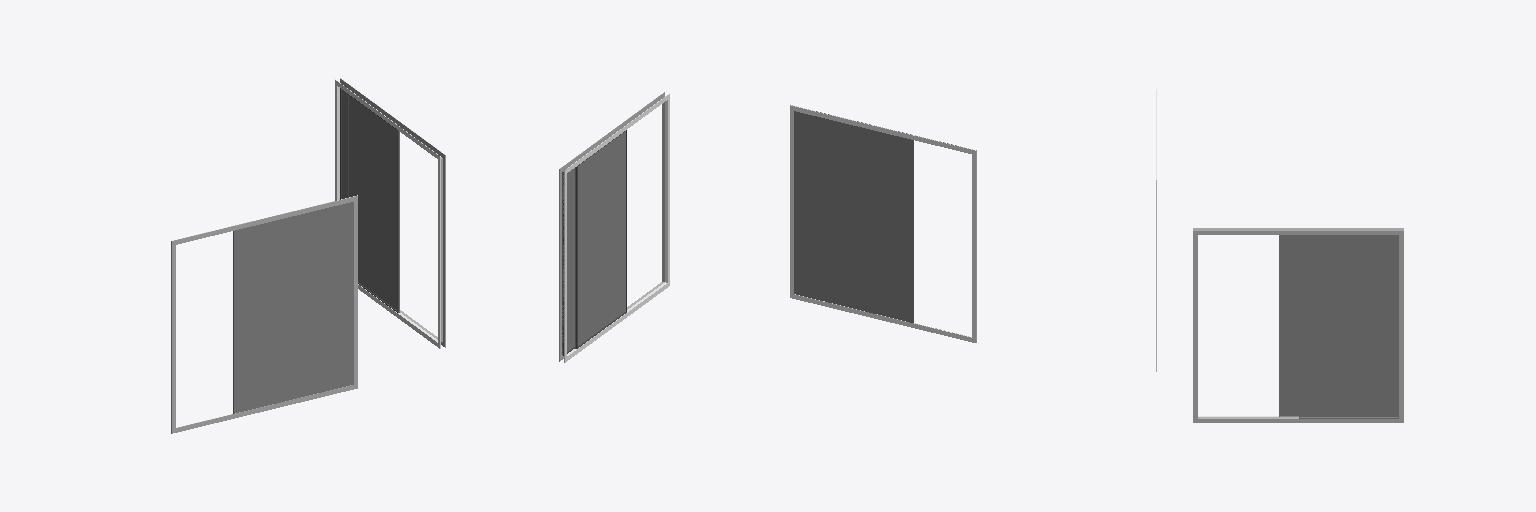
The model's file is ventanas.obj.
The picture shows the model from 3 angles: view 1: azimuth 30°, elevation 25°; view 2: azimuth 150°, elevation 25°; view 3: azimuth 270°, elevation 25°; orthographic projection.
Visible parts, largest first — view 1: SlidingWindow003, SlidingWindow001; view 2: SlidingWindow003, SlidingWindow001; view 3: SlidingWindow001.
Boxes of the visible parts, x1,y1,x2,y2 form: SlidingWindow003: [171, 195, 357, 433]; SlidingWindow001: [335, 78, 445, 348]; SlidingWindow003: [790, 105, 976, 342]; SlidingWindow001: [559, 92, 669, 362]; SlidingWindow001: [1193, 228, 1403, 422].
Bounding box in the file's own units: 49.36 × 31.12 × 36.27.